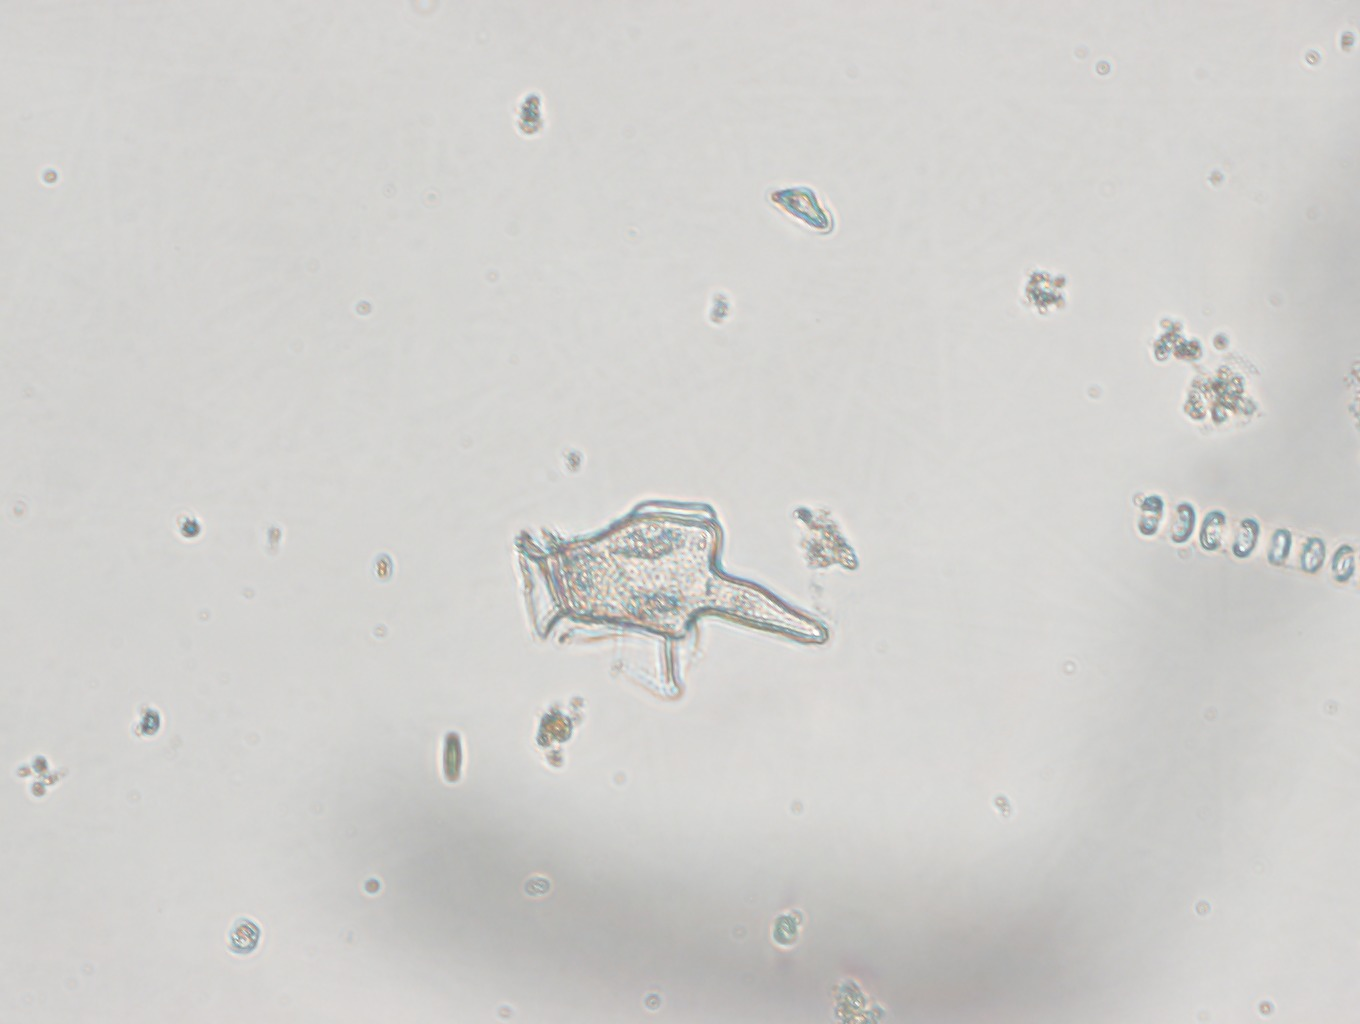dinophysis caudata: (492, 498, 829, 707)
skeletonema: (1125, 487, 1360, 580)
